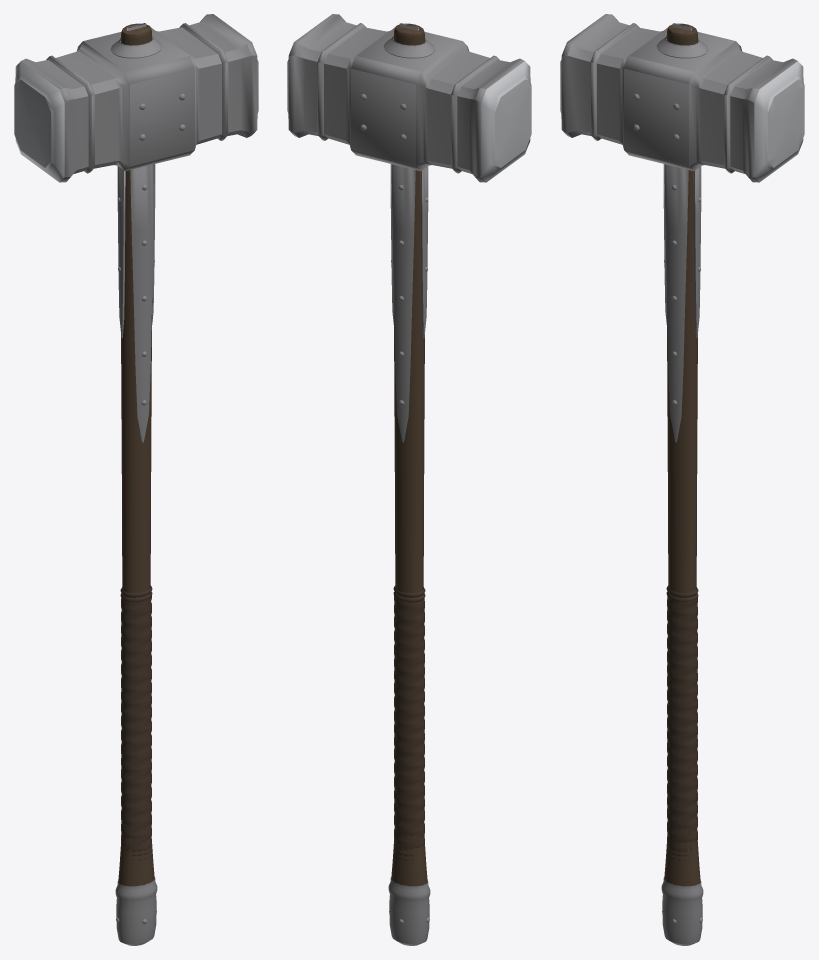
The model's file is gear_maul.glb.
3 views of the same model, side by side, from view 1: azimuth 30°, elevation 25°; view 2: azimuth 150°, elevation 25°; view 3: azimuth 330°, elevation 25° (orthographic).
Visible parts, largest first — view 1: gear_maul; view 2: gear_maul; view 3: gear_maul.
Boxes of the visible parts, <box> form: gear_maul: <box>14,14,258,945</box>; gear_maul: <box>287,14,531,945</box>; gear_maul: <box>560,14,804,945</box>.
Size of the model in its own units: 0.316 by 1.32 by 0.1404.
